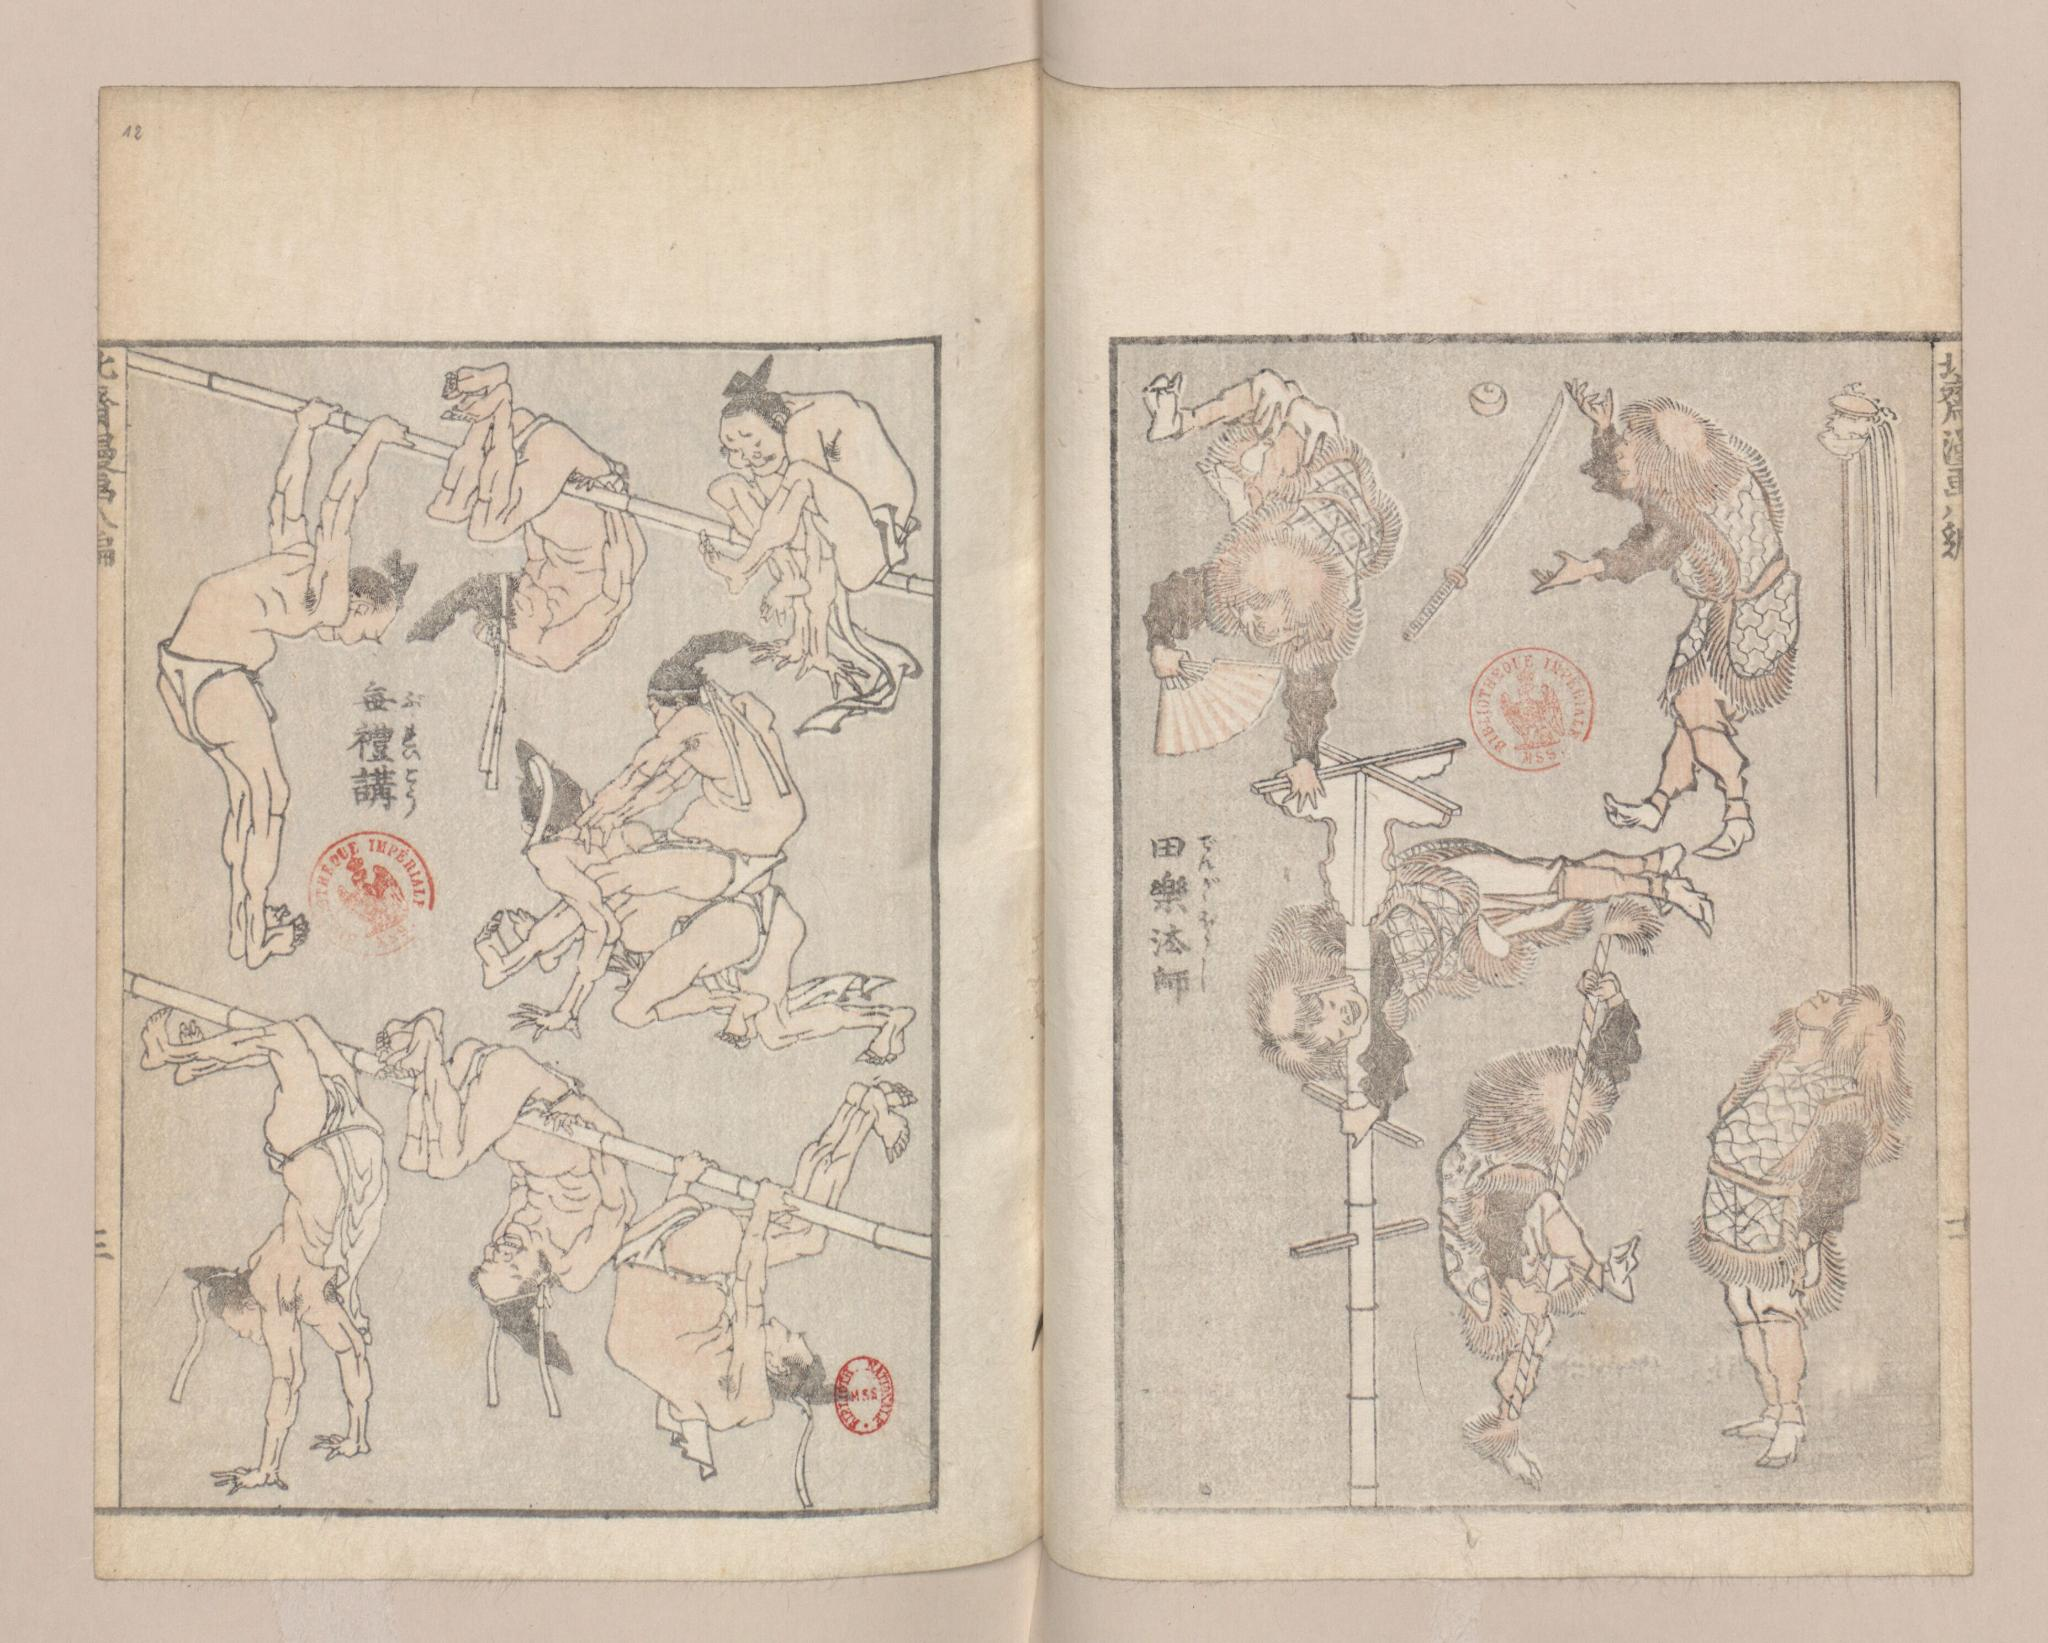MainZone-Character: (345, 766, 426, 816), (347, 721, 426, 764), (1150, 910, 1220, 957), (1143, 872, 1227, 910), (1148, 832, 1227, 872), (1151, 962, 1215, 1006), (359, 681, 431, 716)
MainZone-Ruby: (401, 766, 424, 815), (1197, 832, 1220, 870), (402, 721, 422, 763), (1198, 910, 1217, 956), (401, 686, 427, 711), (1195, 956, 1212, 996), (1198, 875, 1220, 902)
